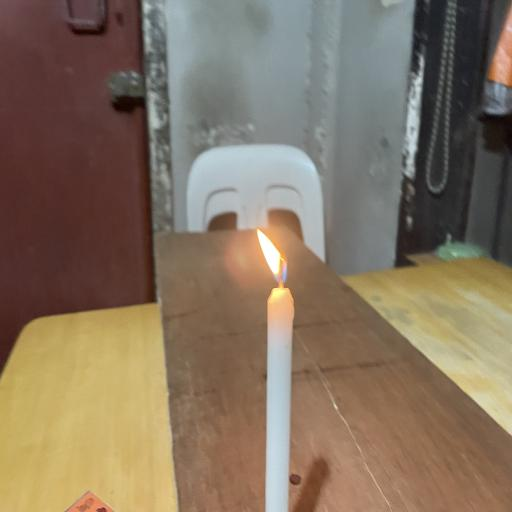fire: (250, 229, 297, 291)
